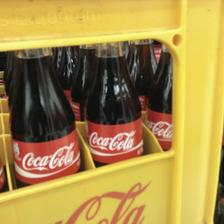Soda: (9, 48, 79, 185), (84, 42, 144, 162)
